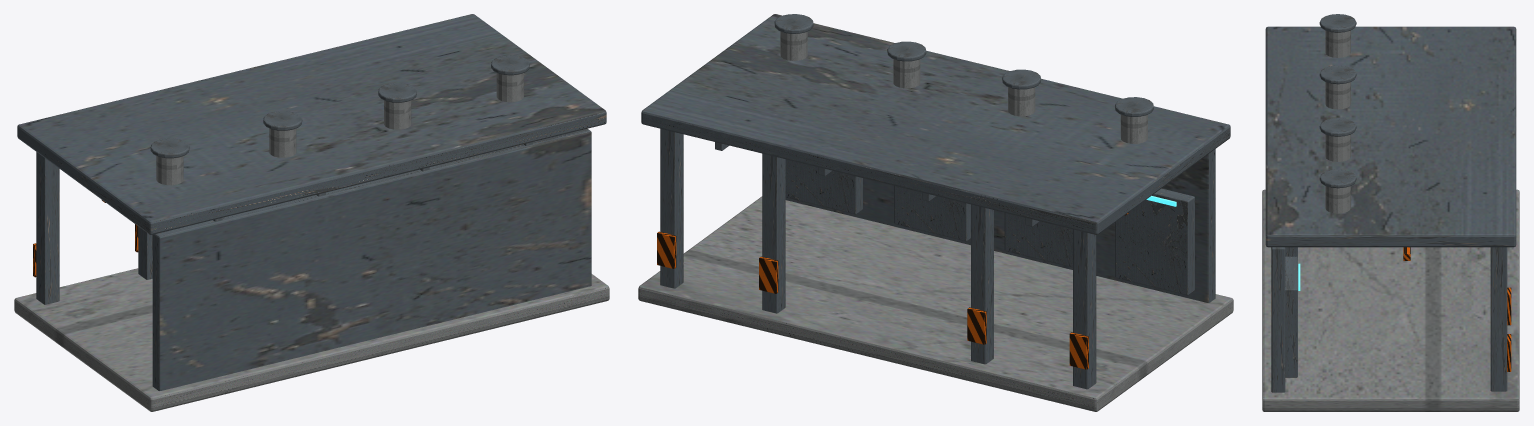
File: service_hangar.glb
3 views of the same model, side by side, from view 1: azimuth 30°, elevation 25°; view 2: azimuth 150°, elevation 25°; view 3: azimuth 270°, elevation 25° (orthographic). The views are drawn at different scales.
Parts seen in each view (by area): view 1: HangarRearWall, HangarRoof, HangarFoundation, HangarPost_-4.85, HangarRoofVent_-1.35, HangarRoofVent_1.35, HangarRoofVent_-4.0, HangarRoofVent_4.0, HangarPost_-2.45, HangarVentCap_-4.0, HangarVentCap_4.0, HangarVentCap_-1.35 (+1 smaller); view 2: HangarRoof, HangarFoundation, HangarRearWall, HangarServiceBay_-3.9, HangarPost_2.45, HangarPost_4.85, HangarPost_-4.85, HangarPost_-2.45, HangarServiceBay_3.9, HangarServiceBay_1.3, HangarServiceBay_-1.3, HangarRoofVent_1.35 (+11 smaller); view 3: HangarRoof, HangarFoundation, HangarPost_4.85, HangarRearWall, HangarServiceBay_3.9, HangarRoofVent_-4.0, HangarRoofVent_1.35, HangarRoofVent_-1.35, HangarRoofVent_4.0, HangarVentCap_4.0, HangarVentCap_-1.35, HangarVentCap_-4.0 (+1 smaller).
Boxes of the visible parts, left/top/right/bottom form: HangarRearWall: left=152, top=128, right=591, bottom=390; HangarRoof: left=17, top=14, right=606, bottom=234; HangarFoundation: left=14, top=268, right=609, bottom=411; HangarPost_-4.85: left=36, top=152, right=59, bottom=304; HangarRoofVent_-1.35: left=269, top=128, right=296, bottom=157; HangarRoofVent_1.35: left=384, top=100, right=411, bottom=129; HangarRoofVent_-4.0: left=156, top=156, right=183, bottom=185; HangarRoofVent_4.0: left=496, top=73, right=523, bottom=102; HangarPost_-2.45: left=138, top=226, right=152, bottom=279; HangarVentCap_-4.0: left=150, top=138, right=189, bottom=158; HangarVentCap_4.0: left=491, top=55, right=529, bottom=75; HangarVentCap_-1.35: left=263, top=111, right=302, bottom=130; HangarRoof: left=641, top=14, right=1230, bottom=234; HangarFoundation: left=638, top=196, right=1233, bottom=411; HangarRearWall: left=785, top=149, right=1215, bottom=302; HangarServiceBay_-3.9: left=1115, top=188, right=1194, bottom=295; HangarPost_2.45: left=762, top=153, right=785, bottom=313; HangarPost_4.85: left=660, top=128, right=683, bottom=288; HangarPost_-4.85: left=1073, top=229, right=1096, bottom=389; HangarPost_-2.45: left=971, top=204, right=993, bottom=364; HangarServiceBay_3.9: left=785, top=159, right=862, bottom=214; HangarServiceBay_1.3: left=894, top=185, right=970, bottom=241; HangarServiceBay_-1.3: left=1004, top=213, right=1072, bottom=267; HangarRoofVent_1.35: left=893, top=59, right=920, bottom=88; HangarRoof: left=1265, top=26, right=1516, bottom=247; HangarFoundation: left=1262, top=189, right=1519, bottom=411; HangarPost_4.85: left=1490, top=247, right=1507, bottom=391; HangarRearWall: left=1271, top=247, right=1285, bottom=392; HangarServiceBay_3.9: left=1285, top=256, right=1297, bottom=377; HangarRoofVent_-4.0: left=1325, top=30, right=1350, bottom=57; HangarRoofVent_1.35: left=1325, top=134, right=1350, bottom=161; HangarRoofVent_-1.35: left=1325, top=82, right=1350, bottom=109; HangarRoofVent_4.0: left=1325, top=186, right=1350, bottom=213; HangarVentCap_4.0: left=1319, top=169, right=1356, bottom=188; HangarVentCap_-1.35: left=1319, top=65, right=1356, bottom=84; HangarVentCap_-4.0: left=1319, top=14, right=1356, bottom=32.
Bounding box in the file's own units: 10.8 × 5.01 × 5.6.
Materials: 5 (5 with a texture image).
